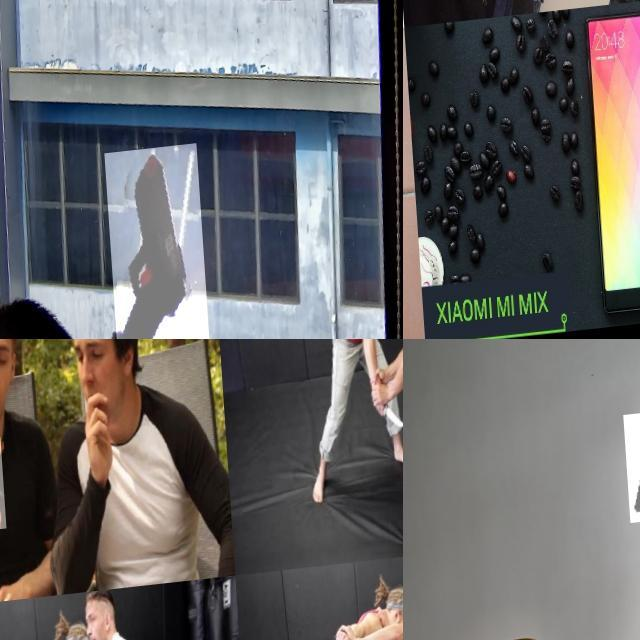-: (0, 439, 25, 534), (369, 407, 403, 444)
gun-knife-thesis - v11 Yolov5 augmented: (100, 148, 204, 339), (619, 416, 640, 529)
